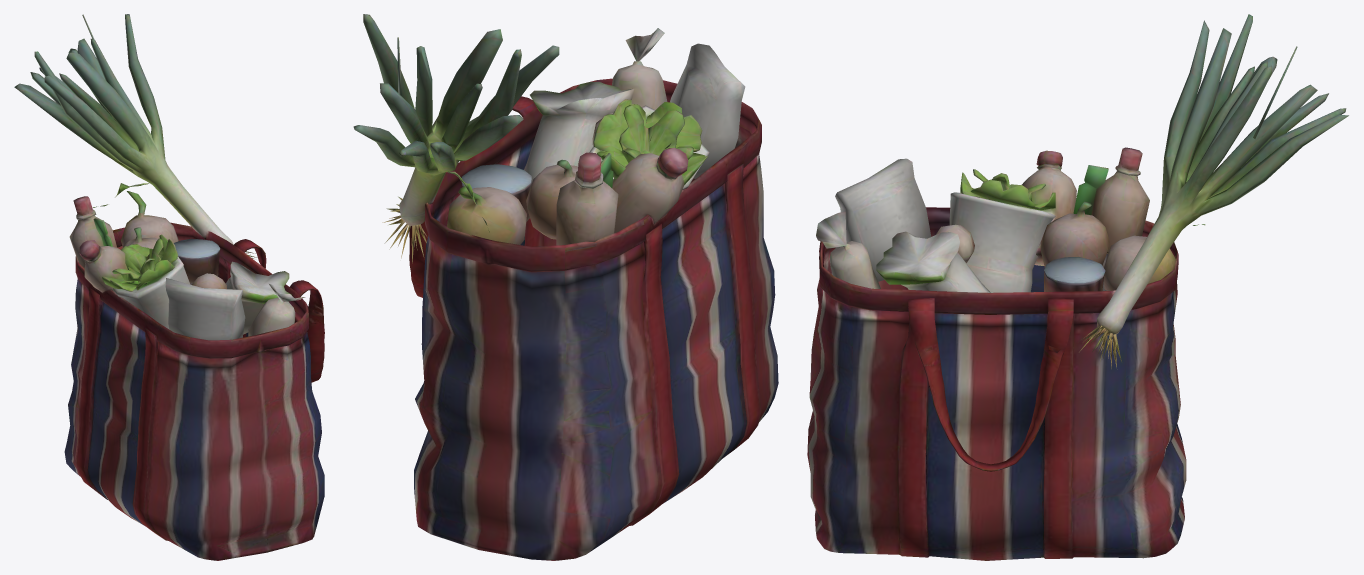
The model's file is bag.glb.
3 views of the same model, side by side, from view 1: azimuth 30°, elevation 25°; view 2: azimuth 150°, elevation 25°; view 3: azimuth 270°, elevation 25° (orthographic). The views are drawn at different scales.
Parts seen in each view (by area): view 1: tripo_node_0f4d12c6-a5bc-4f34-9df3-2a0779b77d9d; view 2: tripo_node_0f4d12c6-a5bc-4f34-9df3-2a0779b77d9d; view 3: tripo_node_0f4d12c6-a5bc-4f34-9df3-2a0779b77d9d.
Part boxes in pixels (x1,y1,x2,y2): tripo_node_0f4d12c6-a5bc-4f34-9df3-2a0779b77d9d: [14, 14, 324, 560]; tripo_node_0f4d12c6-a5bc-4f34-9df3-2a0779b77d9d: [353, 14, 778, 560]; tripo_node_0f4d12c6-a5bc-4f34-9df3-2a0779b77d9d: [807, 14, 1348, 560].
Size of the model in its own units: 0.5332 by 0.998 by 0.998.
1 material, 1 textured.
